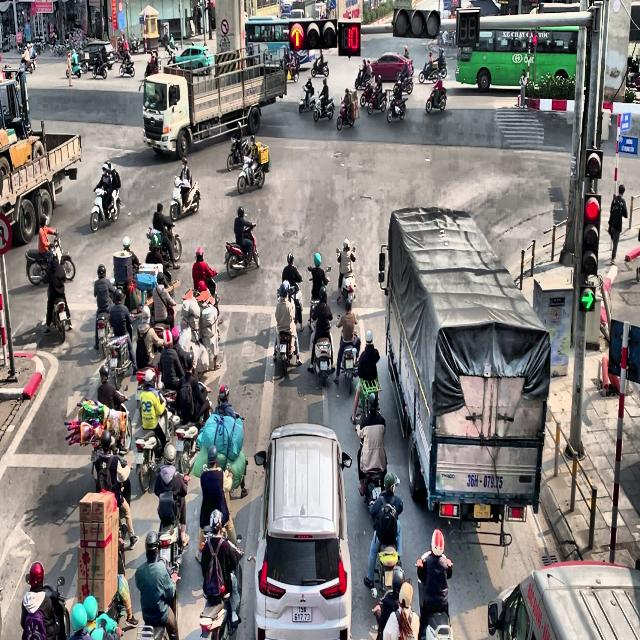BUS: (455, 9, 582, 91)
CAR: (251, 422, 353, 640), (487, 559, 640, 639), (166, 45, 214, 75), (368, 52, 413, 81)
MOTORBIKE: (134, 402, 179, 493), (199, 549, 244, 639), (136, 578, 180, 640), (25, 231, 75, 285), (372, 520, 402, 597), (224, 222, 259, 278), (309, 314, 334, 386), (336, 325, 361, 395), (105, 332, 134, 389), (307, 266, 331, 330), (273, 319, 299, 376), (170, 175, 200, 221), (90, 186, 120, 232), (146, 226, 181, 265), (336, 247, 356, 303), (237, 155, 265, 194), (51, 298, 71, 343), (227, 136, 250, 171), (96, 310, 112, 358), (313, 90, 334, 122), (336, 96, 354, 130), (426, 83, 446, 113), (387, 94, 407, 123), (418, 59, 440, 83), (367, 88, 387, 114), (66, 56, 88, 78), (393, 71, 413, 95), (299, 85, 316, 113), (92, 53, 107, 79), (311, 57, 329, 77), (119, 55, 135, 77), (21, 51, 37, 73), (165, 44, 178, 64)
TRAFFIC_LIGHT: (581, 192, 601, 276), (392, 7, 441, 38), (338, 21, 361, 56), (585, 148, 603, 179), (289, 23, 304, 50)
TRUCK: (378, 205, 552, 545), (141, 44, 287, 160)
